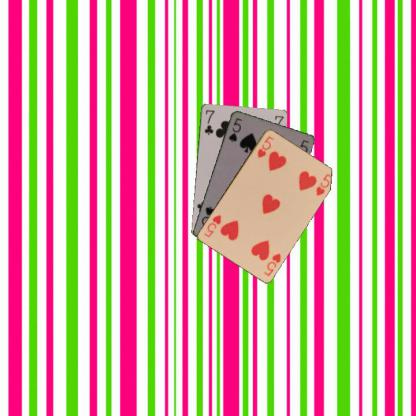5h: (253, 133, 275, 159), (261, 250, 282, 277)
5s: (226, 115, 243, 143)
7c: (202, 107, 216, 136)
